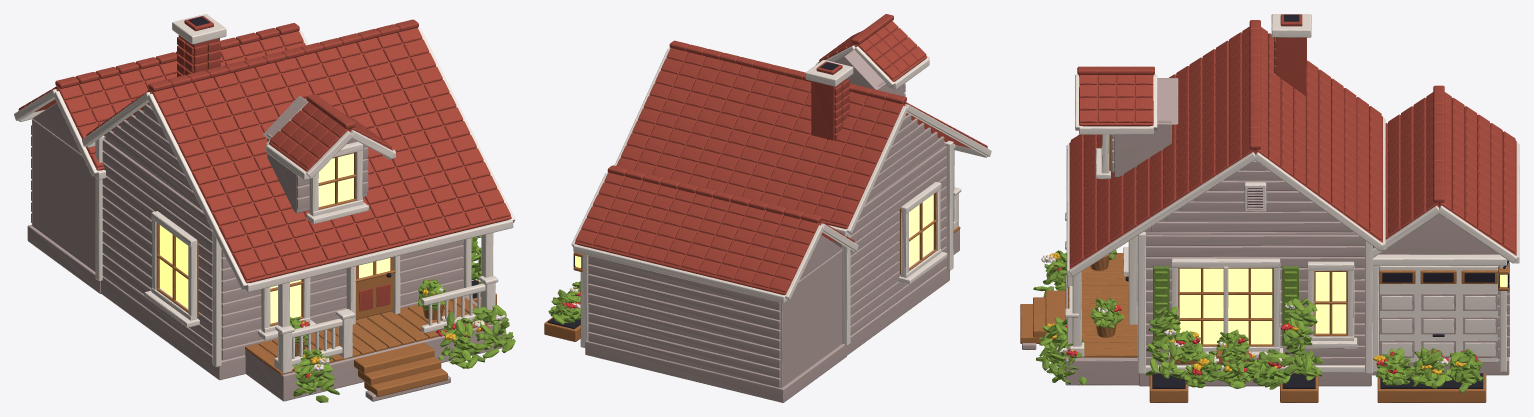
Rendered from bld.house-b.glb.
The picture shows the model from 3 angles, left to right: view 1: azimuth 30°, elevation 25°; view 2: azimuth 150°, elevation 25°; view 3: azimuth 270°, elevation 25°; orthographic projection. The views are drawn at different scales.
Visible parts, largest first — view 1: roof, body, dormer_roof, door_entry; view 2: roof, body, dormer_roof; view 3: body, roof, door_garage, dormer_roof.
Part boxes in pixels (x1,y1,x2,y2): roof: (14, 14, 515, 292); body: (27, 102, 515, 402); dormer_roof: (266, 94, 395, 180); door_entry: (355, 257, 395, 319); roof: (571, 40, 991, 302); body: (544, 114, 961, 402); dormer_roof: (816, 14, 929, 89); body: (1020, 160, 1509, 402); roof: (1066, 14, 1519, 276); door_garage: (1379, 266, 1497, 362); dormer_roof: (1075, 66, 1157, 134).
Size of the model in its own units: 7.52 by 6.8 by 11.03.
